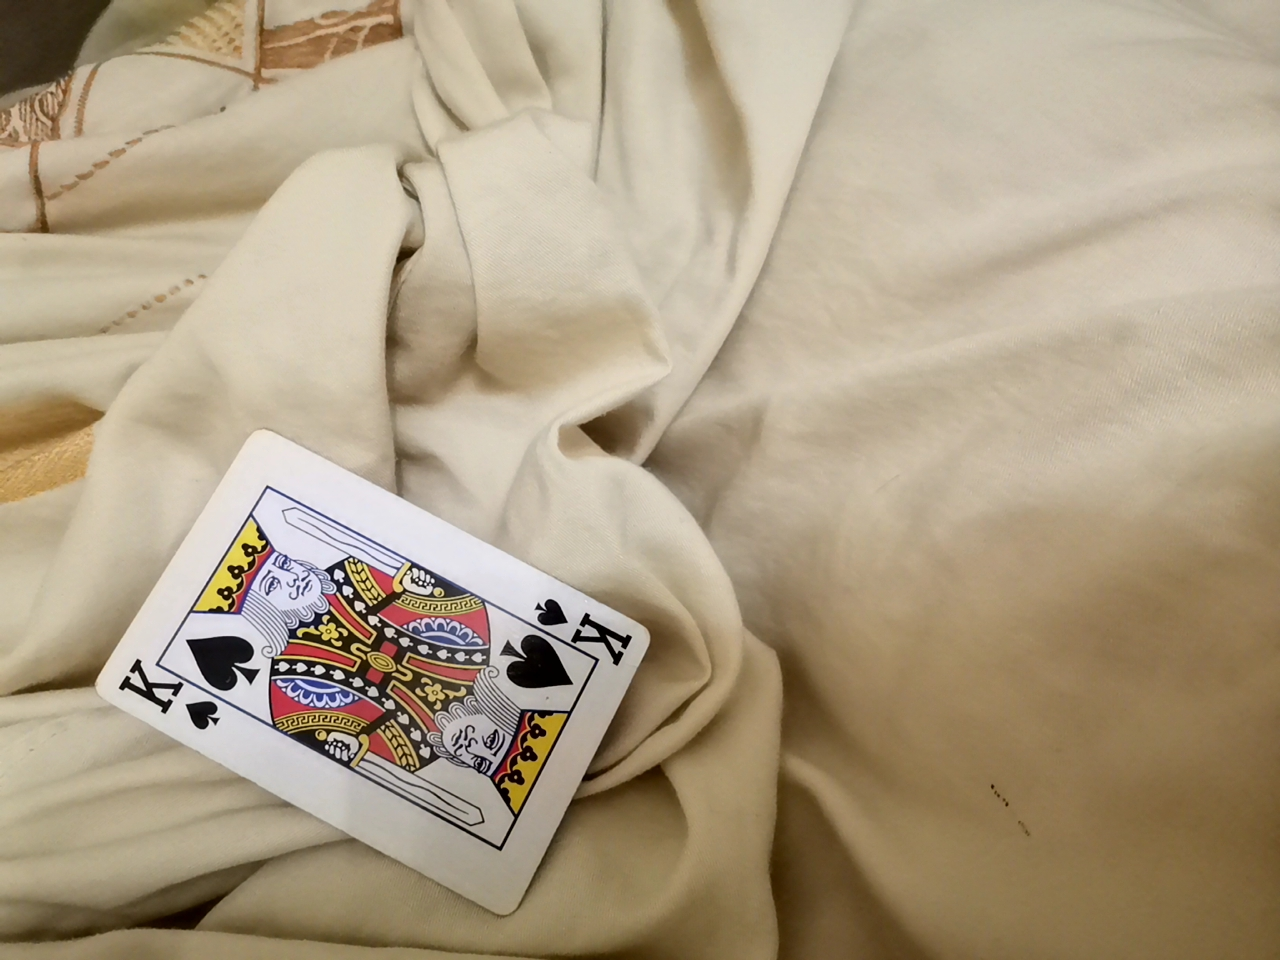ht k: (89, 443, 659, 910)
